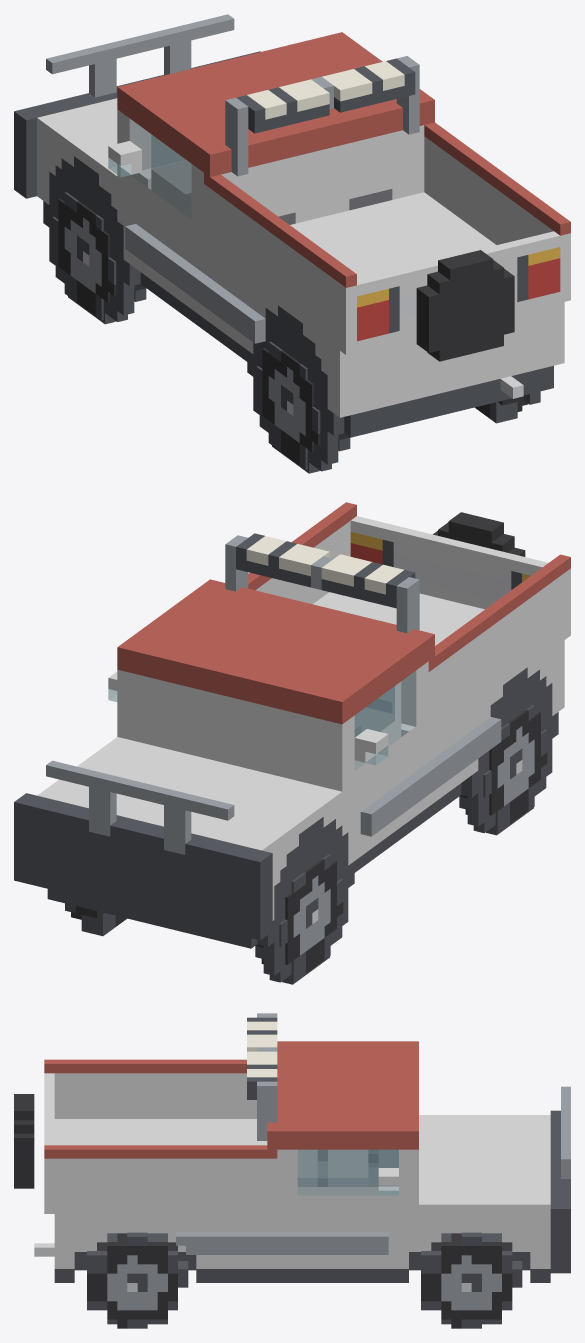
File: todoterreno.glb
The picture shows the model from 3 angles, top to bottom: view 1: azimuth 30°, elevation 25°; view 2: azimuth 150°, elevation 25°; view 3: azimuth 270°, elevation 25°; orthographic projection. The views are drawn at different scales.
Visible parts, largest first — view 1: todoterreno, rueda_tra_i, rueda_del_i, rueda_tra_d; view 2: todoterreno, rueda_del_i, rueda_tra_i, rueda_del_d; view 3: todoterreno, rueda_del_d, rueda_tra_d.
Part boxes in pixels (x1=…): todoterreno: x1=14, y1=14, x2=570, y2=473; rueda_tra_i: x1=256, y1=341, x2=350, y2=469; rueda_del_i: x1=52, y1=192, x2=146, y2=320; rueda_tra_d: x1=475, y1=391, x2=540, y2=423; todoterreno: x1=14, y1=502, x2=570, y2=984; rueda_del_i: x1=255, y1=854, x2=343, y2=982; rueda_tra_i: x1=459, y1=705, x2=547, y2=833; rueda_del_d: x1=65, y1=903, x2=126, y2=936; todoterreno: x1=14, y1=1013, x2=570, y2=1282; rueda_del_d: x1=421, y1=1232, x2=522, y2=1328; rueda_tra_d: x1=87, y1=1232, x2=188, y2=1328.
Size of the model in its own units: 2.5 by 2.6 by 5.5.
